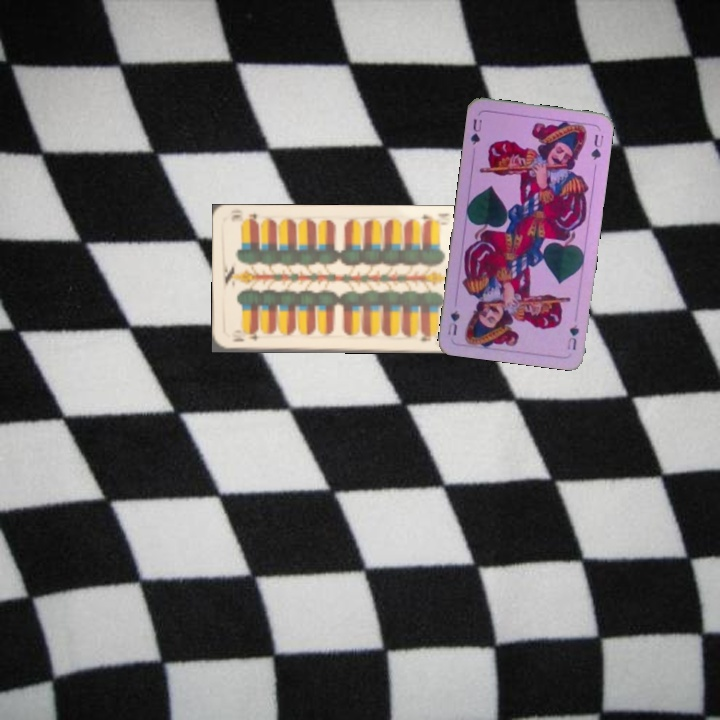E10: (417, 209, 453, 228), (228, 328, 267, 345)
GU: (466, 114, 485, 149), (563, 321, 582, 353)
